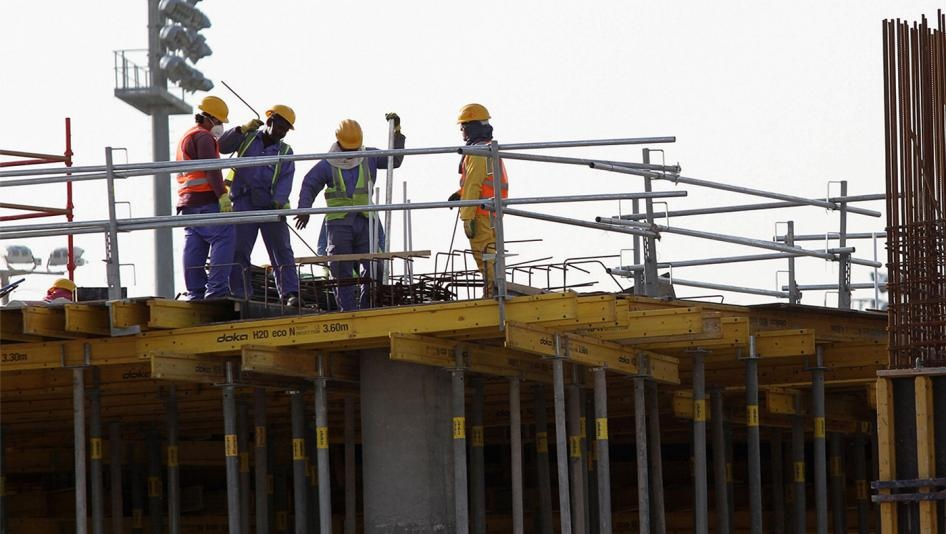yellow: (191, 95, 228, 136), (456, 101, 492, 143), (263, 102, 296, 140), (334, 117, 366, 156)
